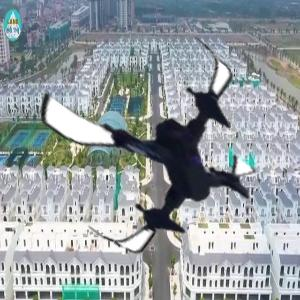drone: (35, 25, 271, 261)
